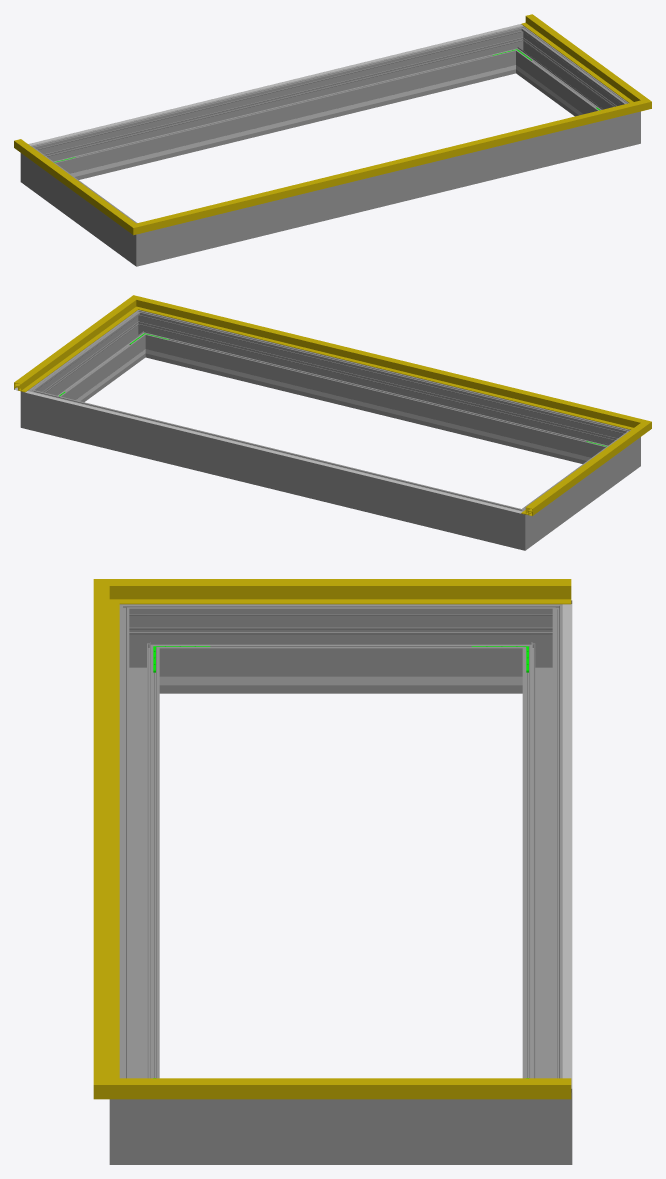
3 renders of one model, top to bottom at view 1: azimuth 30°, elevation 25°; view 2: azimuth 150°, elevation 25°; view 3: azimuth 270°, elevation 25°, orthographic. The views are drawn at different scales.
Parts seen in each view (by area): view 1: 3DGeom-276, 3DGeom-298, 3DGeom-123, 3DGeom-297, 3DGeom-268, 3DGeom-244, 3DGeom-128, 3DGeom-118, 3DGeom-220, 3DGeom-270, 3DGeom-284, 3DGeom-290 (+3 smaller); view 2: 3DGeom-298, 3DGeom-276, 3DGeom-123, 3DGeom-297, 3DGeom-268, 3DGeom-239, 3DGeom-128, 3DGeom-118, 3DGeom-278, 3DGeom-220, 3DGeom-284, 3DGeom-290 (+3 smaller); view 3: 3DGeom-268, 3DGeom-297, 3DGeom-276, 3DGeom-298, 3DGeom-123, 3DGeom-118, 3DGeom-128, 3DGeom-220, 3DGeom-284, 3DGeom-290, 3DGeom-278, 3DGeom-270 (+3 smaller).
Part boxes in pixels (x1=…): 3DGeom-276: x1=49, y1=31, x2=511, y2=179; 3DGeom-298: x1=162, y1=118, x2=614, y2=260; 3DGeom-123: x1=155, y1=105, x2=625, y2=228; 3DGeom-297: x1=518, y1=35, x2=621, y2=116; 3DGeom-268: x1=35, y1=155, x2=129, y2=255; 3DGeom-244: x1=80, y1=71, x2=490, y2=175; 3DGeom-128: x1=521, y1=14, x2=636, y2=100; 3DGeom-118: x1=14, y1=139, x2=124, y2=223; 3DGeom-220: x1=28, y1=24, x2=522, y2=145; 3DGeom-270: x1=121, y1=217, x2=162, y2=266; 3DGeom-284: x1=501, y1=25, x2=535, y2=74; 3DGeom-290: x1=615, y1=97, x2=640, y2=149; 3DGeom-298: x1=150, y1=315, x2=612, y2=463; 3DGeom-276: x1=46, y1=394, x2=503, y2=544; 3DGeom-123: x1=153, y1=301, x2=625, y2=426; 3DGeom-297: x1=40, y1=319, x2=142, y2=402; 3DGeom-268: x1=532, y1=439, x2=625, y2=539; 3DGeom-239: x1=170, y1=355, x2=581, y2=459; 3DGeom-128: x1=14, y1=306, x2=129, y2=392; 3DGeom-118: x1=521, y1=431, x2=636, y2=515; 3DGeom-278: x1=499, y1=501, x2=540, y2=550; 3DGeom-220: x1=25, y1=391, x2=522, y2=513; 3DGeom-284: x1=20, y1=382, x2=51, y2=433; 3DGeom-290: x1=125, y1=310, x2=159, y2=358; 3DGeom-268: x1=169, y1=604, x2=512, y2=693; 3DGeom-297: x1=169, y1=1099, x2=512, y2=1164; 3DGeom-276: x1=522, y1=625, x2=562, y2=1078; 3DGeom-298: x1=119, y1=625, x2=159, y2=1078; 3DGeom-123: x1=93, y1=604, x2=119, y2=1073; 3DGeom-118: x1=153, y1=579, x2=571, y2=604; 3DGeom-128: x1=153, y1=1078, x2=571, y2=1099; 3DGeom-220: x1=562, y1=604, x2=572, y2=1088; 3DGeom-284: x1=512, y1=1067, x2=572, y2=1164; 3DGeom-290: x1=109, y1=1067, x2=169, y2=1164; 3DGeom-278: x1=512, y1=600, x2=572, y2=693; 3DGeom-270: x1=119, y1=604, x2=169, y2=693.
Size of the model in its own units: 3.05 by 0.2434 by 1.22.
